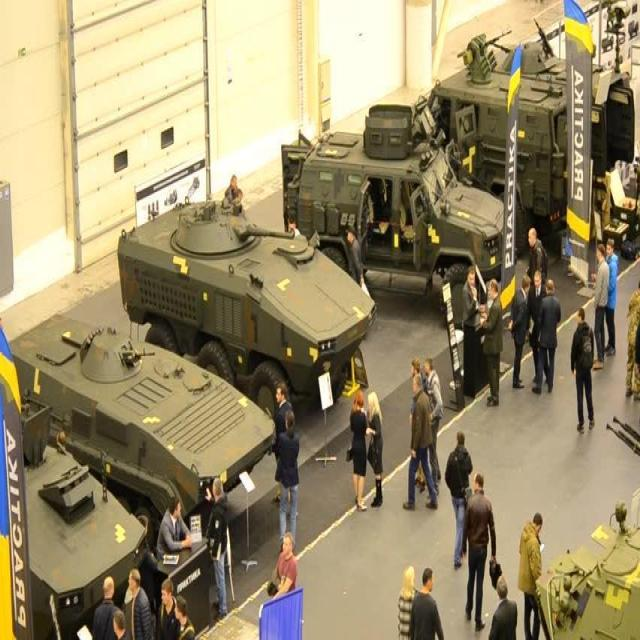Tanks: (18, 319, 276, 528), (108, 208, 371, 401), (15, 391, 150, 609)
